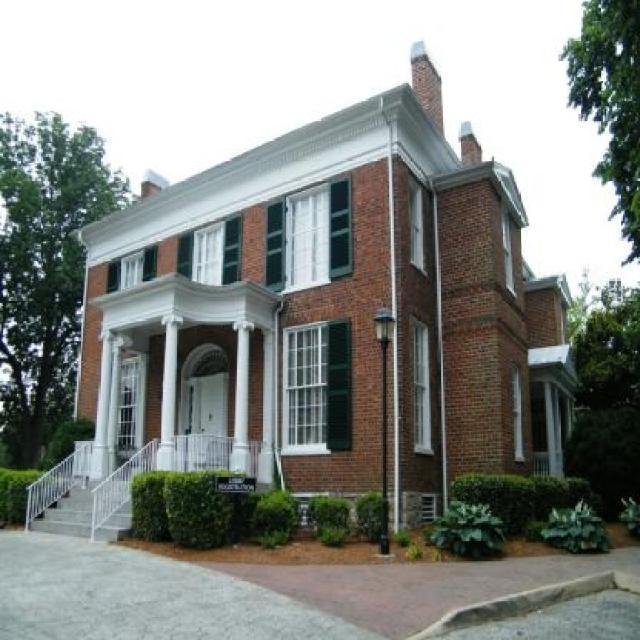stair: (31, 478, 134, 544)
